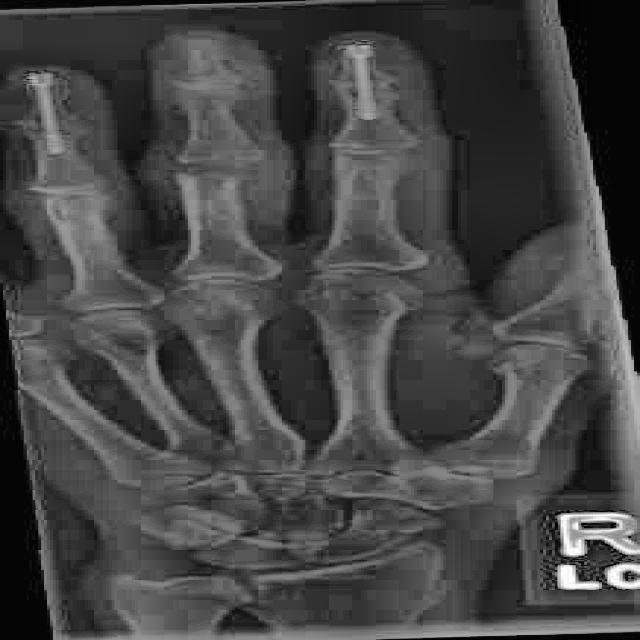fingers positive: (8, 114, 102, 157), (156, 162, 275, 192)
